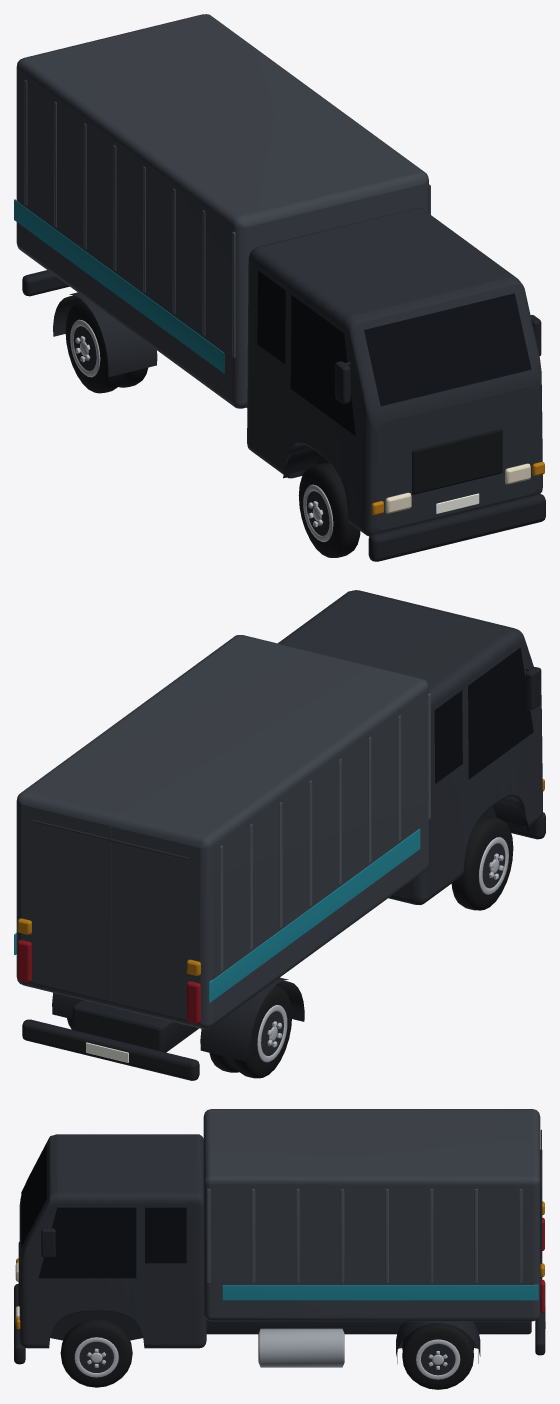
File: truck-dark.glb
The picture shows the model from 3 angles, top to bottom: view 1: azimuth 30°, elevation 25°; view 2: azimuth 150°, elevation 25°; view 3: azimuth 270°, elevation 25°; orthographic projection. The views are drawn at different scales.
Parts seen in each view (by area): view 1: cargo, cab, cab_glass, bumper_f, cargo_stripe, grille, cargo_ribs, mudguards, wheel_f_r_tyre, wheel_r_r_tyre1, wheel_f_r_rim, wheel_r_r_rim (+3 smaller); view 2: cargo, cab, cab_glass, cargo_stripe, cargo_ribs, underbody, bumper_r, mudguards, wheel_f_r_tyre, wheel_r_r_tyre1, cargo_doors, wheel_r_r_rim (+4 smaller); view 3: cargo, cab, cab_glass, cargo_stripe, fuel_tank, cargo_ribs, underbody, wheel_f_l_tyre, wheel_r_l_tyre1, wheelhouses, mudguards, wheel_f_l_rim (+7 smaller).
Part boxes in pixels (x1,y1,x2,y2): cargo: [16, 14, 428, 408]; cab: [247, 207, 542, 536]; cab_glass: [257, 270, 531, 435]; bumper_f: [368, 494, 545, 561]; cargo_stripe: [14, 199, 224, 373]; grille: [412, 429, 502, 494]; cargo_ribs: [24, 80, 430, 357]; mudguards: [53, 292, 157, 377]; wheel_f_r_tyre: [298, 463, 360, 557]; wheel_r_r_tyre1: [65, 300, 124, 393]; wheel_f_r_rim: [303, 484, 333, 542]; wheel_r_r_rim: [70, 319, 100, 377]; cargo: [16, 635, 428, 1029]; cab: [278, 590, 542, 905]; cab_glass: [434, 647, 533, 783]; cargo_stripe: [14, 828, 420, 1002]; cargo_ribs: [220, 693, 430, 971]; underbody: [72, 1000, 198, 1052]; bumper_r: [22, 1019, 199, 1080]; mudguards: [52, 977, 304, 1062]; wheel_f_r_tyre: [451, 815, 513, 910]; wheel_r_r_tyre1: [232, 985, 291, 1078]; cargo_doors: [31, 819, 188, 1000]; wheel_r_r_rim: [257, 1005, 287, 1062]; cargo: [203, 1109, 540, 1321]; cab: [19, 1134, 206, 1348]; cab_glass: [21, 1144, 186, 1278]; cargo_stripe: [222, 1284, 538, 1300]; fuel_tank: [258, 1328, 344, 1367]; cargo_ribs: [207, 1189, 522, 1282]; underbody: [206, 1320, 531, 1334]; wheel_f_l_tyre: [60, 1319, 132, 1387]; wheel_r_l_tyre1: [402, 1323, 473, 1389]; wheelhouses: [50, 1311, 143, 1340]; mudguards: [396, 1321, 480, 1363]; wheel_f_l_rim: [74, 1337, 118, 1377].
Bounding box in the file's own units: 2.4 × 3.3 × 7.4.
